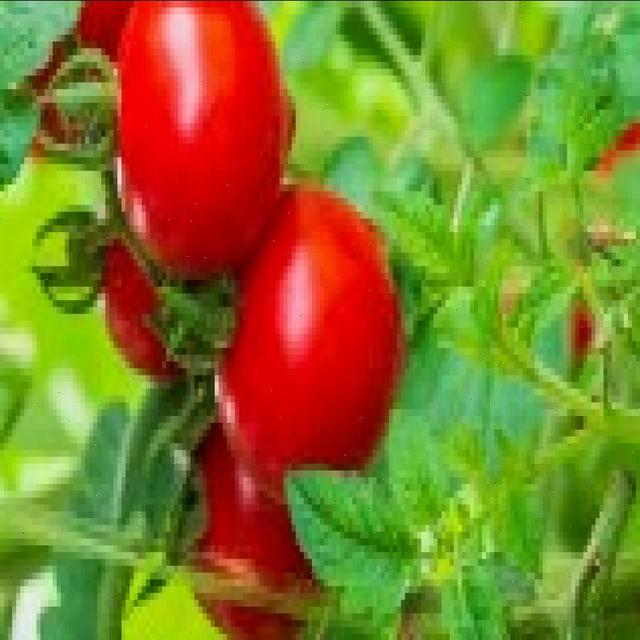Healthy Fruit: (89, 86, 202, 351)
